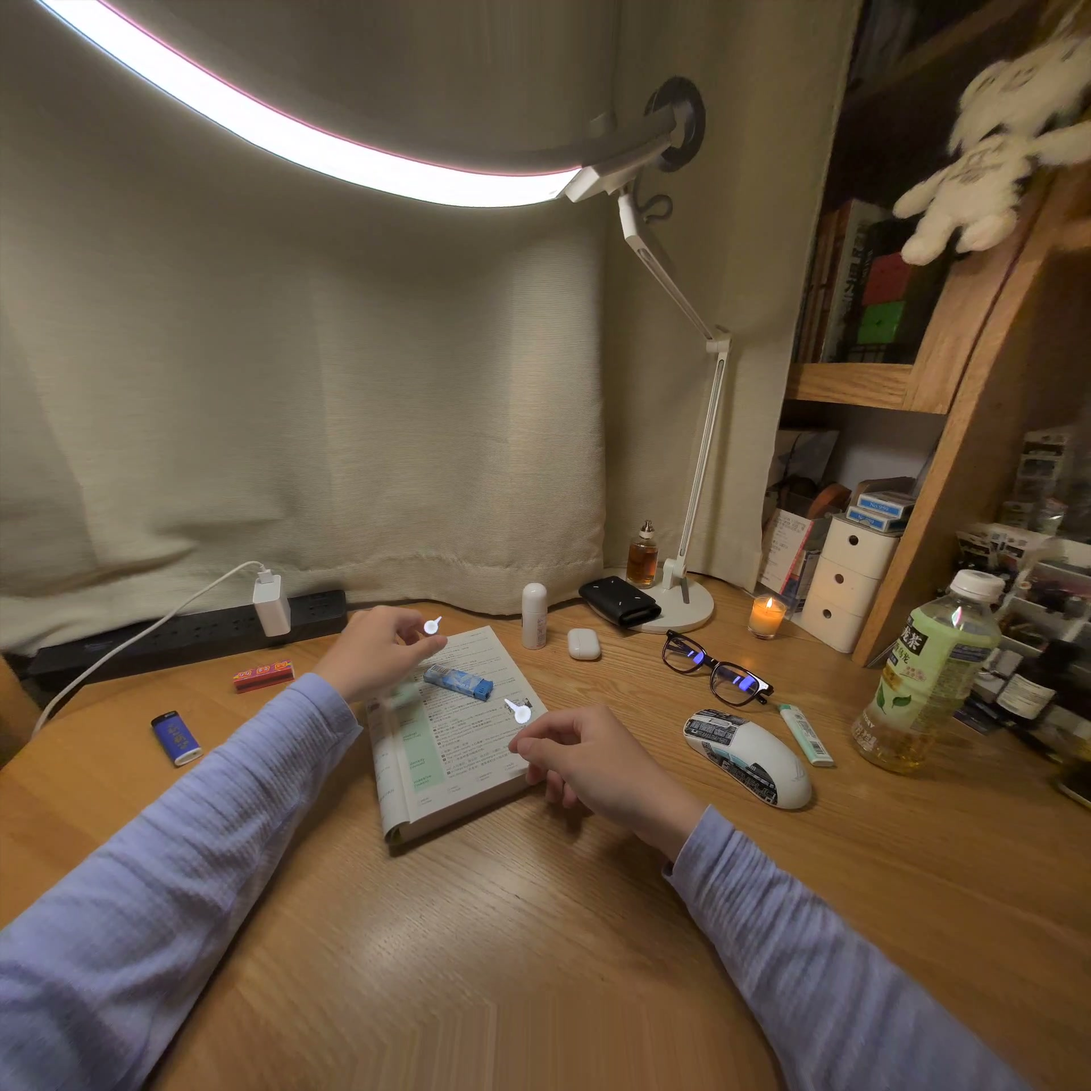lighter: (424, 665, 493, 701)
